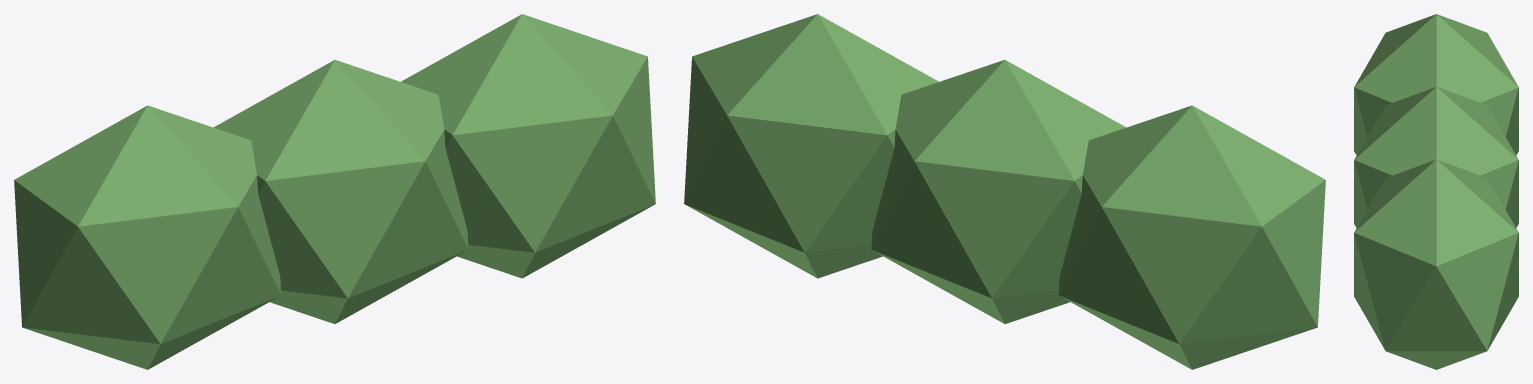
The model's file is hedge.glb.
3 renders of one model, left to right at view 1: azimuth 30°, elevation 25°; view 2: azimuth 150°, elevation 25°; view 3: azimuth 270°, elevation 25°, orthographic. The views are drawn at different scales.
Parts seen in each view (by area): view 1: hedge; view 2: hedge; view 3: hedge.
Boxes of the visible parts, x1,y1,x2,y2 form: hedge: (14, 14, 655, 369); hedge: (684, 14, 1325, 369); hedge: (1354, 14, 1518, 369).
Bounding box in the file's own units: 2.67 × 1.08 × 0.7656.
